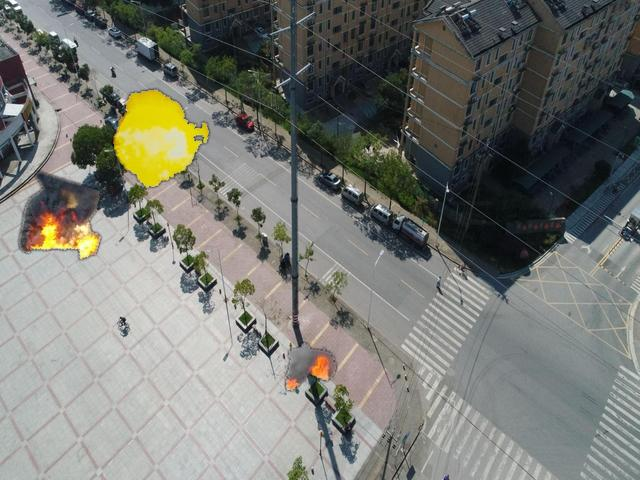fire: (112, 88, 209, 187), (16, 171, 102, 261), (283, 342, 336, 390)
